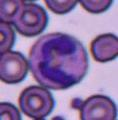N: (29, 31, 88, 90)
